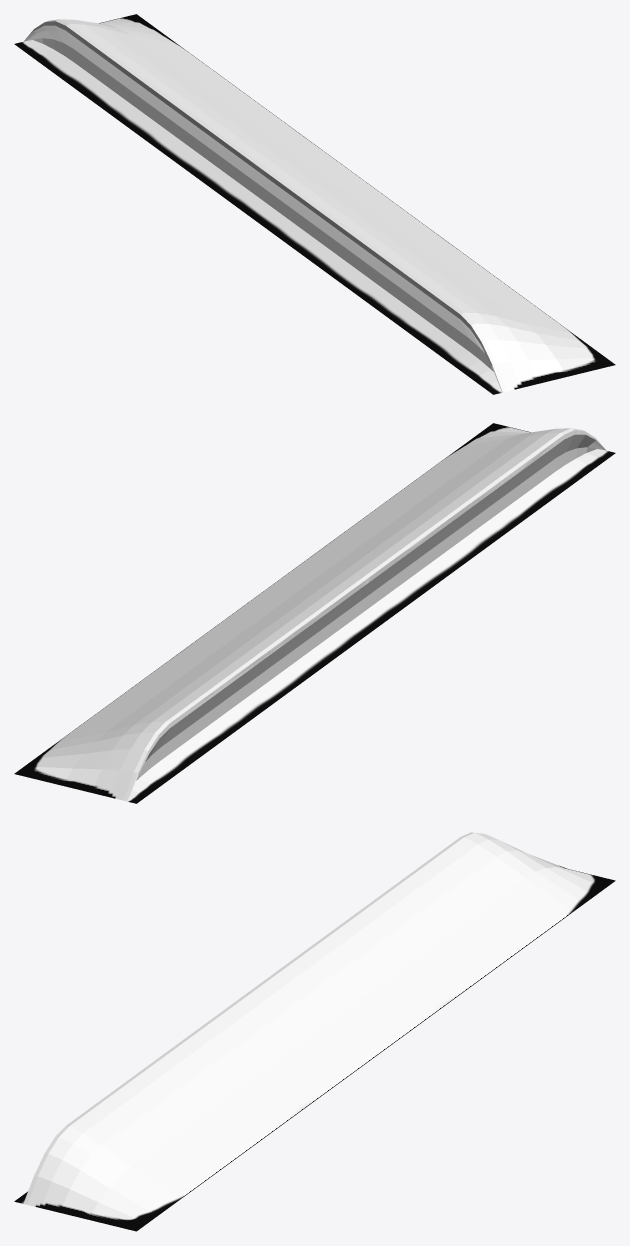
The model's file is SM_PatricleMeshWideWave.fbx.
3 views of the same model, one above another, from view 1: azimuth 30°, elevation 25°; view 2: azimuth 150°, elevation 25°; view 3: azimuth 330°, elevation 25° (orthographic).
Visible parts, largest first — view 1: SM_WideWave, SM_WideWaveSpawnlocation; view 2: SM_WideWave, SM_WideWaveSpawnlocation; view 3: SM_WideWave.
Part boxes in pixels (x1=…): SM_WideWave: x1=14, y1=14, x2=615, y2=394; SM_WideWaveSpawnlocation: x1=33, y1=22, x2=499, y2=385; SM_WideWave: x1=14, y1=423, x2=615, y2=803; SM_WideWaveSpawnlocation: x1=134, y1=430, x2=600, y2=784; SM_WideWave: x1=14, y1=832, x2=615, y2=1231.
Size of the model in its own units: 219 by 81.77 by 1485.
